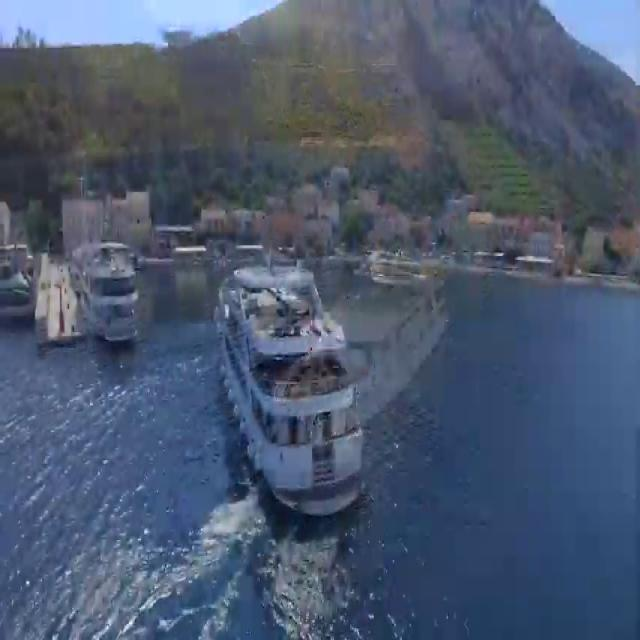passenger ship: (211, 244, 359, 511), (79, 235, 138, 337)
